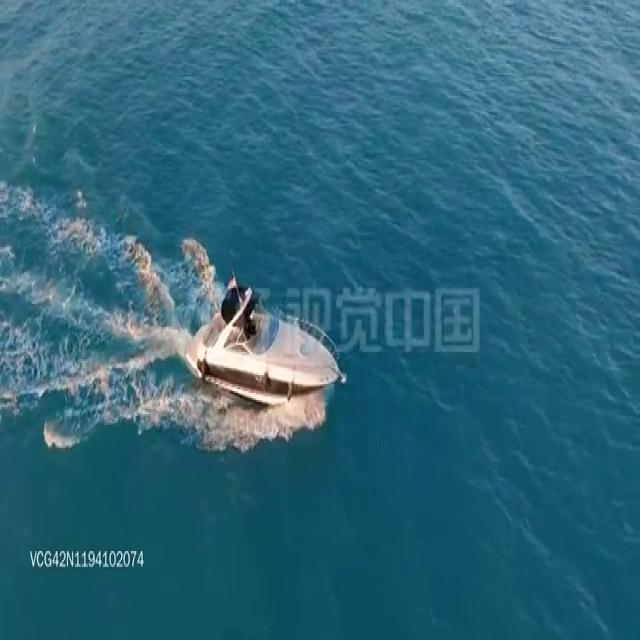houseboat: (190, 270, 342, 405)
